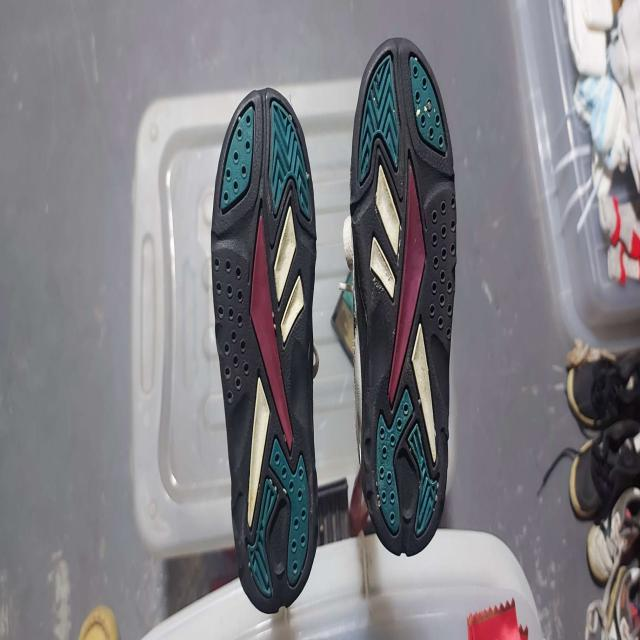shoe: (210, 85, 319, 615), (349, 36, 458, 559)
